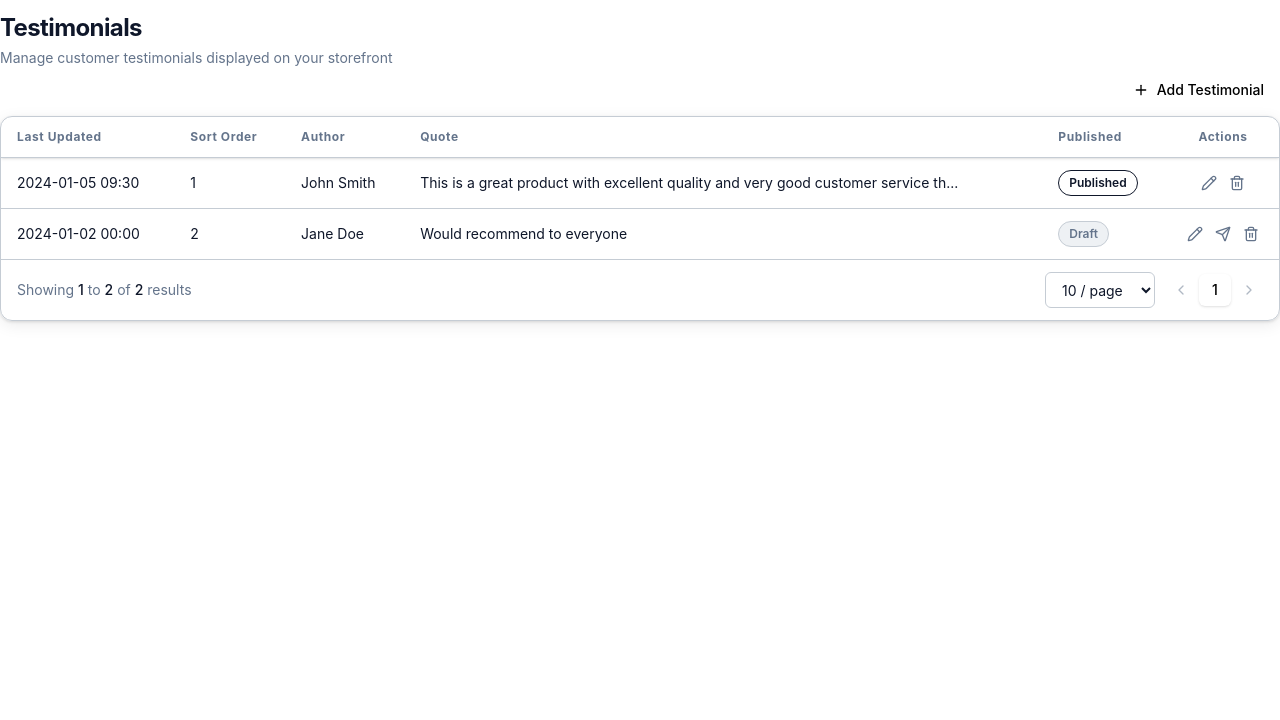
Test case: TestimonialsPage › SUPER_ADMIN role › double-clicking a row opens the edit form pre-filled with that testimonial's values
Double-click the text "John Smith".
double_click(338, 182)  # box [301,174,376,191]
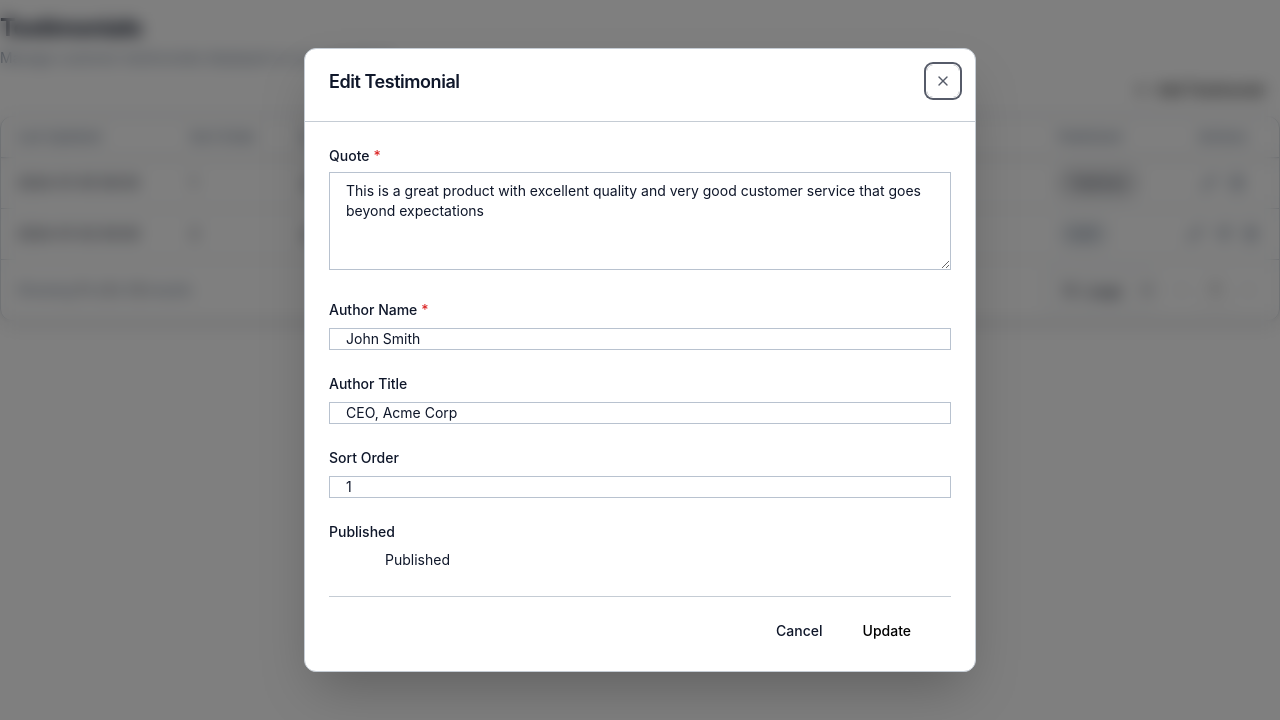
Check: the text "Edit Testimonial" is shown, box [329,71,460,92]
Check: the text box labelled "Quote*" holds "This is a great product with excellent quality and very good customer service that goes beyond expectations", box [329,172,951,270]
Check: the field labelled "Author Name*" holds "John Smith", box [329,328,951,350]
